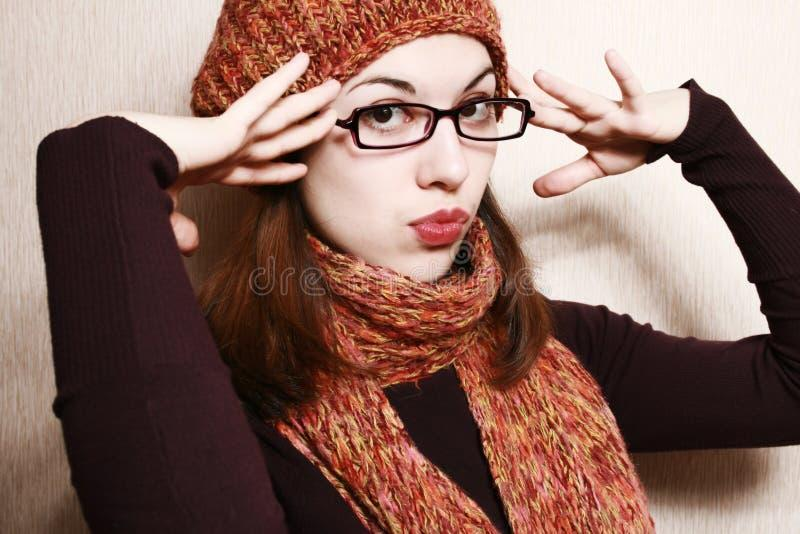cap: (169, 0, 554, 139)
sunglasses: (340, 93, 553, 157)
